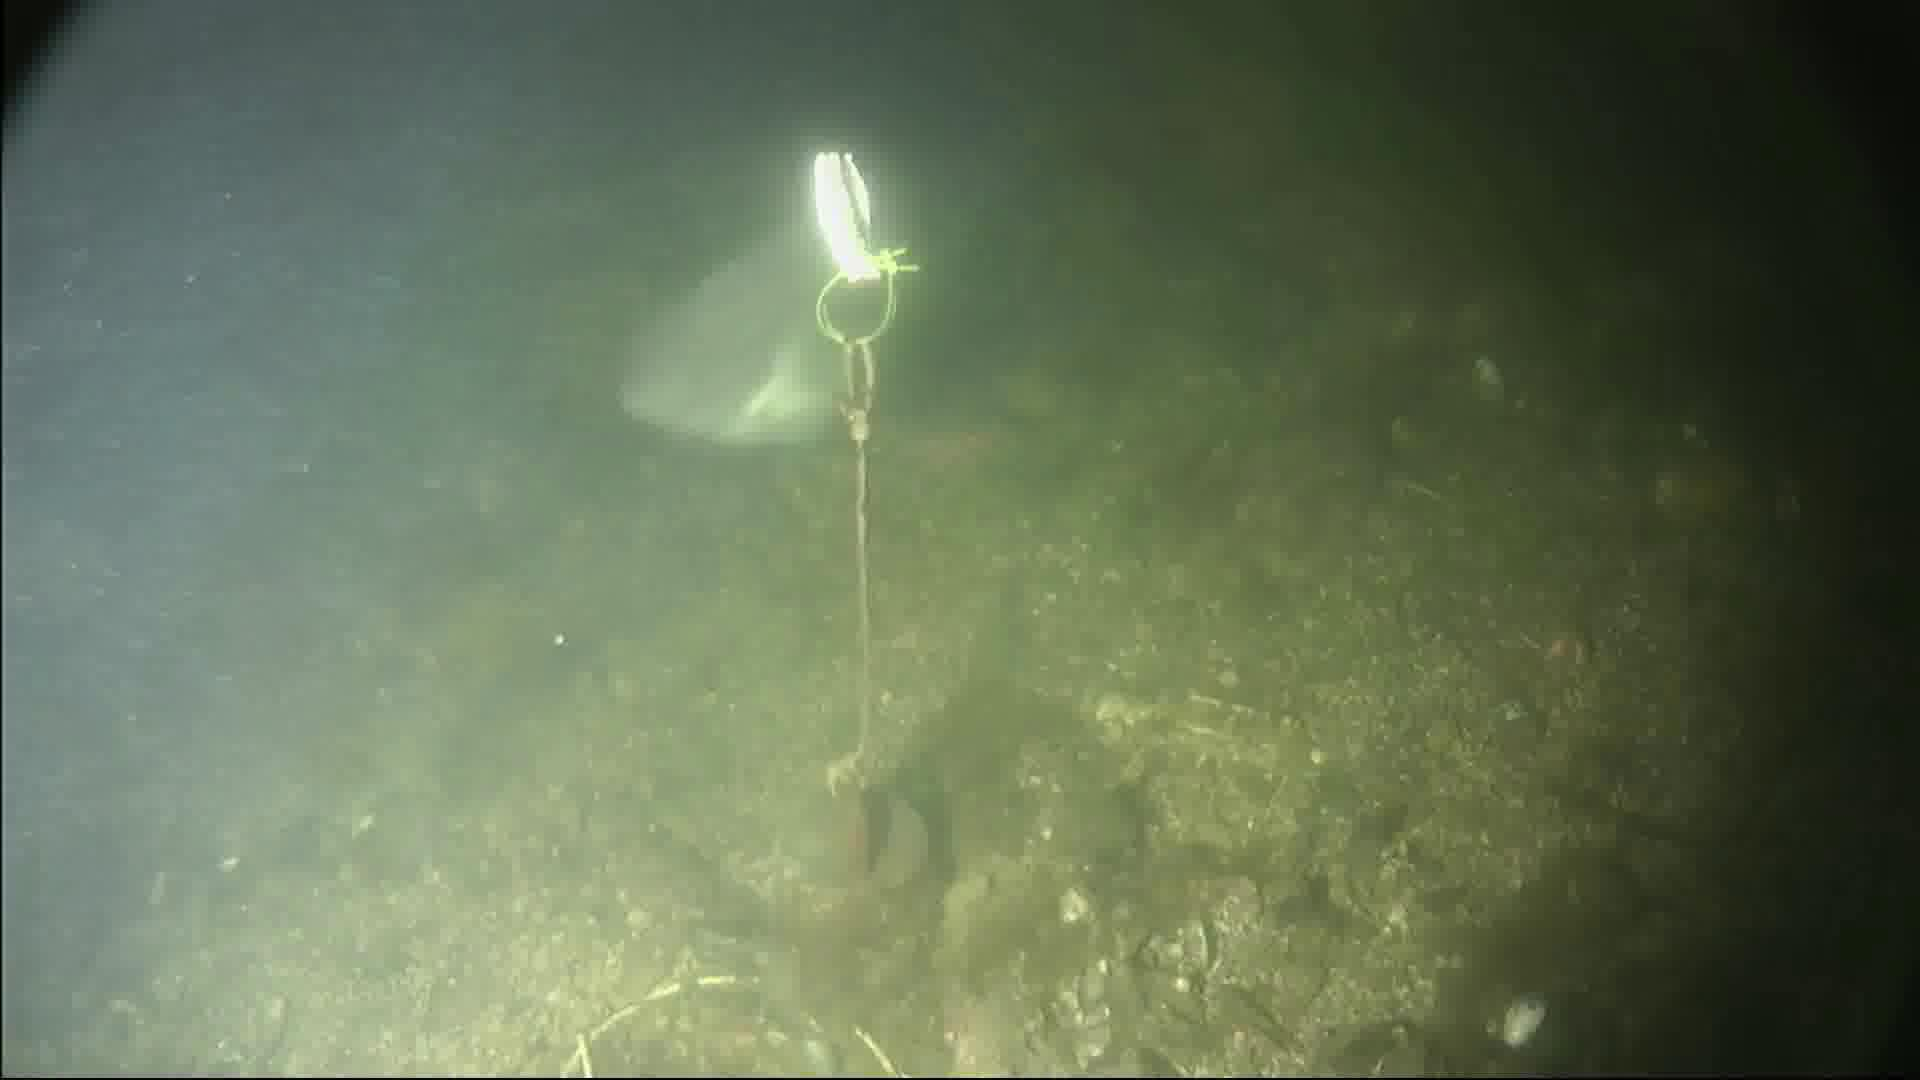fish: (615, 219, 849, 449)
